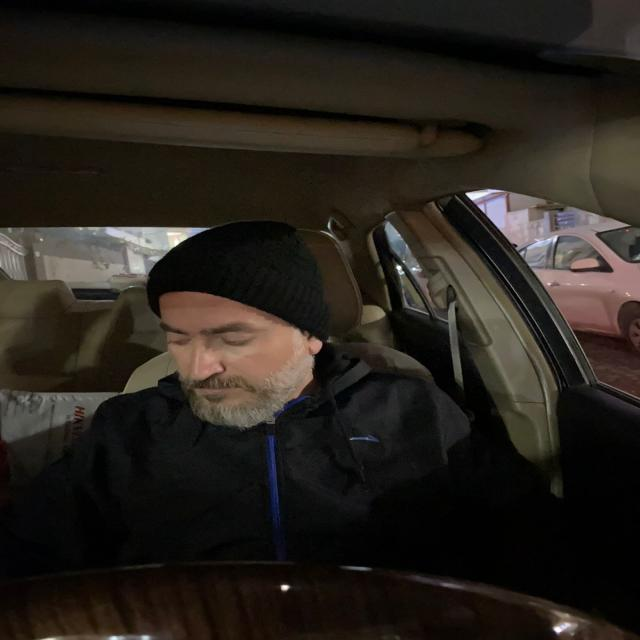drowsy: (141, 252, 345, 438)
